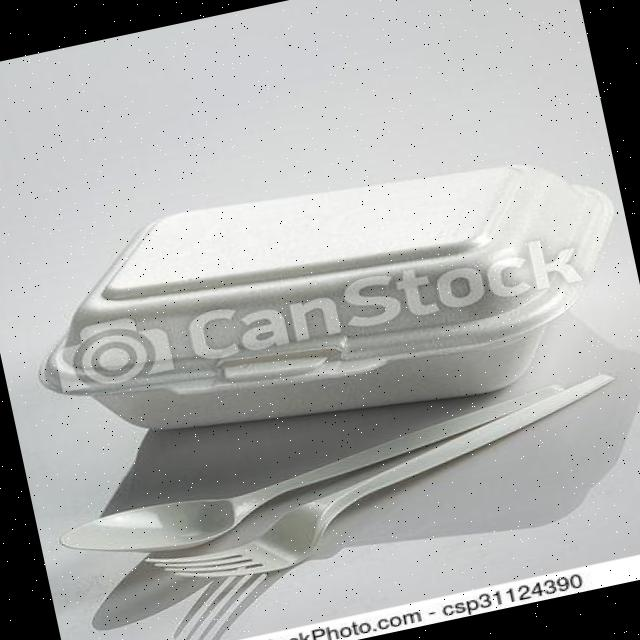styrofoam: (6, 119, 640, 485)
